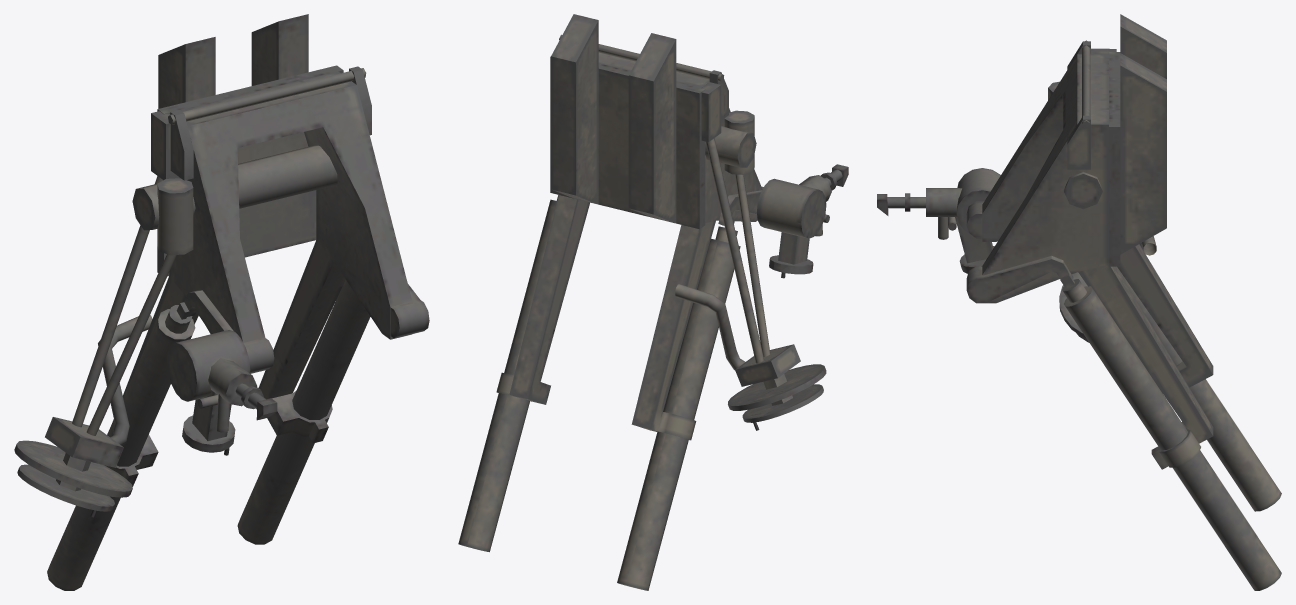
Rendered from Turret_01.glb.
3 renders of one model, left to right at view 1: azimuth 30°, elevation 25°; view 2: azimuth 150°, elevation 25°; view 3: azimuth 270°, elevation 25°, orthographic. The views are drawn at different scales.
Parts seen in each view (by area): view 1: set_0_group_0; view 2: set_0_group_0; view 3: set_0_group_0.
Boxes of the visible parts, x1,y1,x2,y2 form: set_0_group_0: (14, 14, 429, 590); set_0_group_0: (458, 14, 848, 590); set_0_group_0: (877, 14, 1281, 590).
Size of the model in its own units: 1.23 by 2.04 by 1.47.
1 material, 1 textured.
